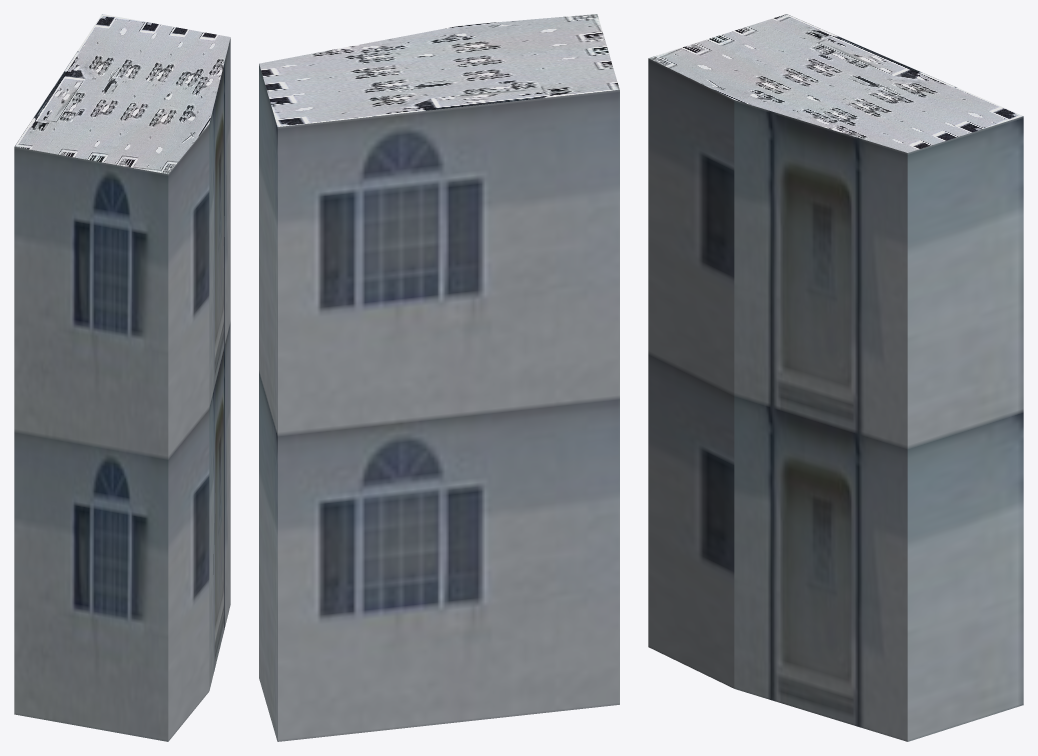
File: ResTex__1628.fbx
The picture shows the model from 3 angles, left to right: view 1: azimuth 30°, elevation 25°; view 2: azimuth 150°, elevation 25°; view 3: azimuth 270°, elevation 25°; orthographic projection. The views are drawn at different scales.
Visible parts, largest first — view 1: CityEngineMaterial_17_m, CityEngineMaterial_8_m; view 2: CityEngineMaterial_17_m, CityEngineMaterial_8_m; view 3: CityEngineMaterial_17_m, CityEngineMaterial_8_m.
Part boxes in pixels (x1,y1,x2,y2): CityEngineMaterial_17_m: (14, 38, 230, 741); CityEngineMaterial_8_m: (14, 14, 230, 173); CityEngineMaterial_17_m: (259, 64, 619, 741); CityEngineMaterial_8_m: (259, 14, 619, 126); CityEngineMaterial_17_m: (648, 58, 1023, 741); CityEngineMaterial_8_m: (649, 14, 1023, 152).
Size of the model in its own units: 3.04 by 6 by 3.46.
Materials: 2 (2 with a texture image).
